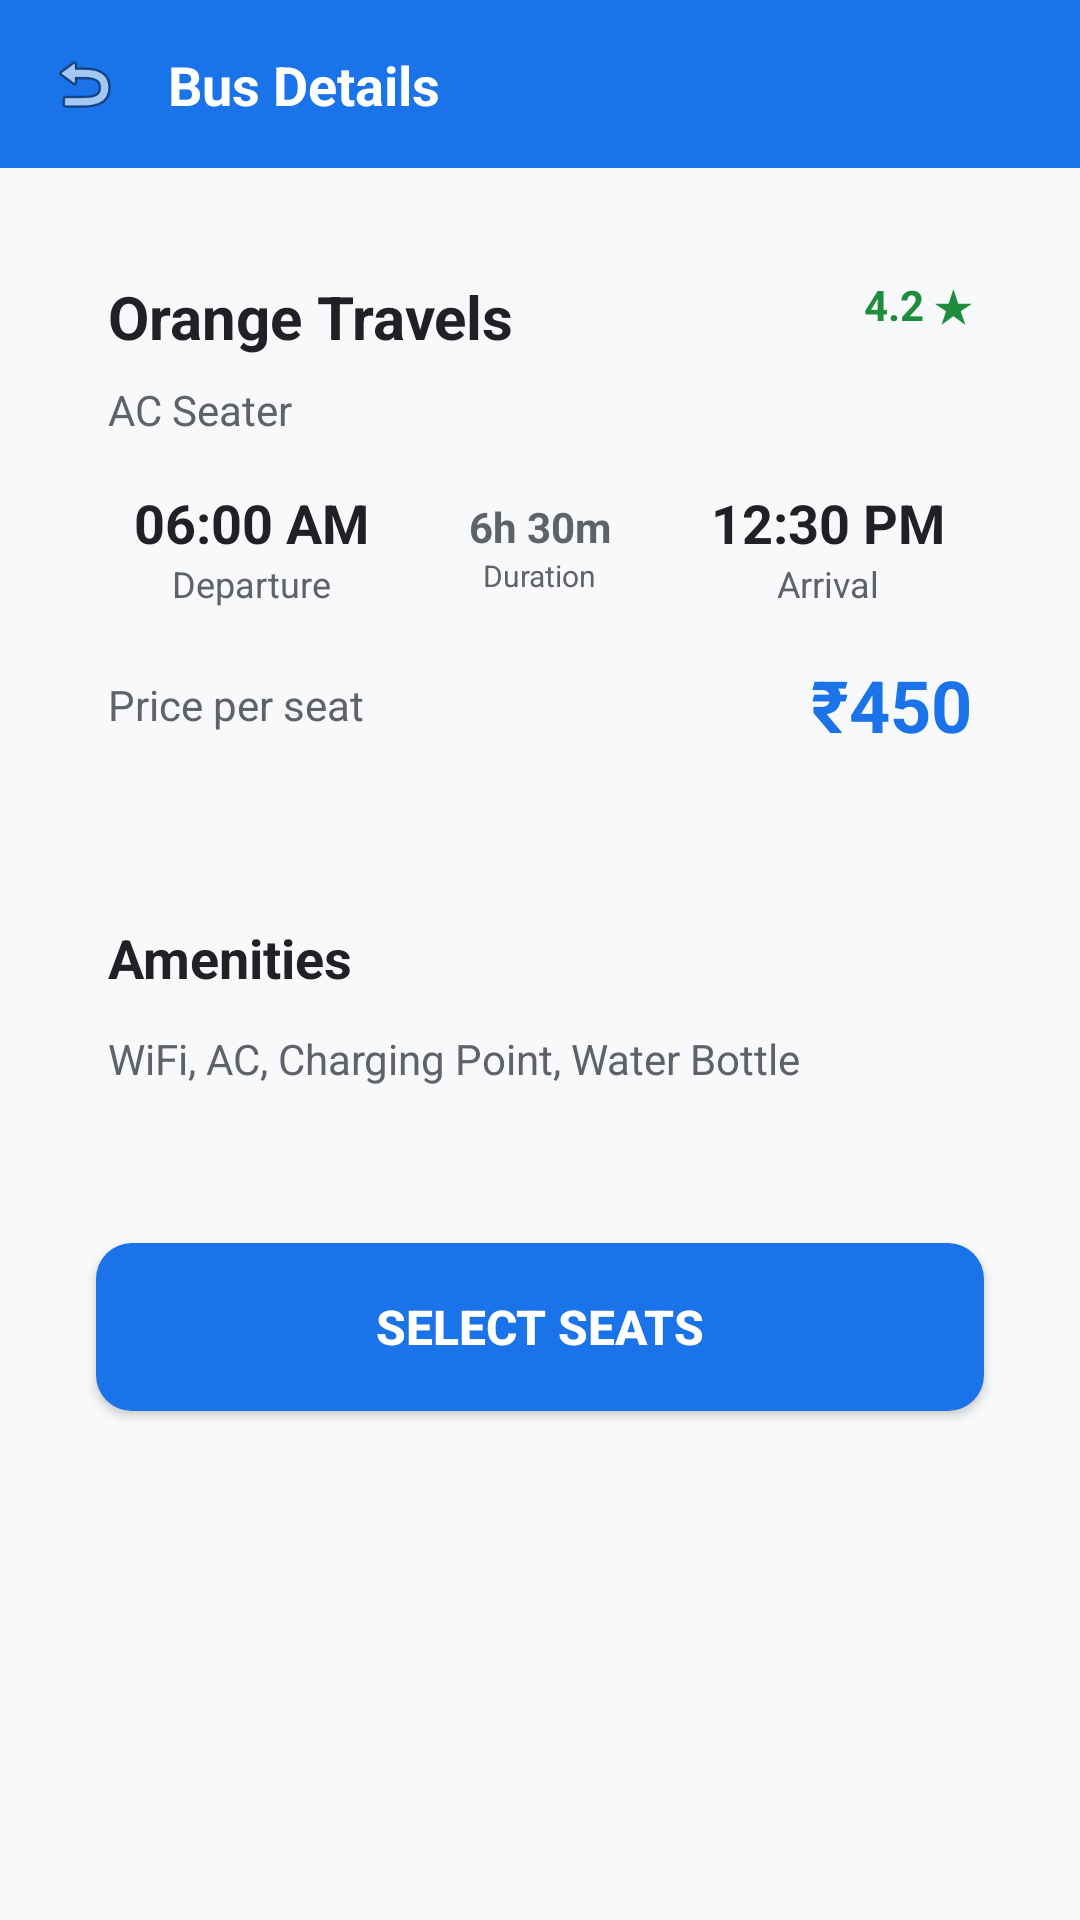

Where to tap for icons on this 1080*1920 app screen, as point (x, y):
Back: point (85, 84)
